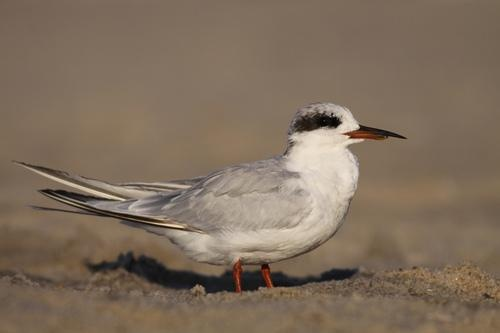bird: (8, 98, 407, 300)
